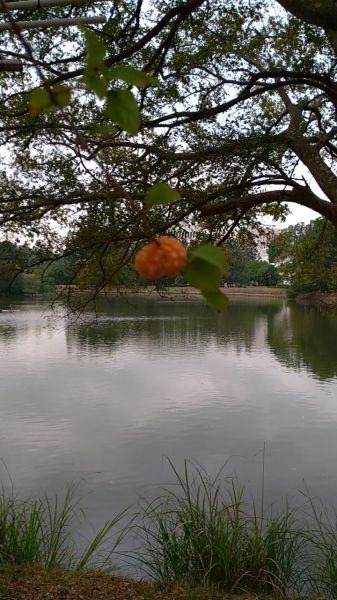eggs: (130, 231, 190, 291)
